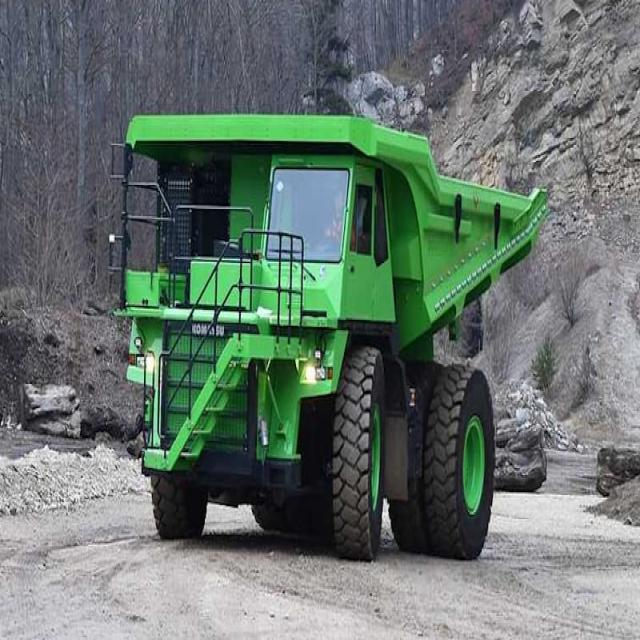dump_truck: (115, 77, 549, 587)
